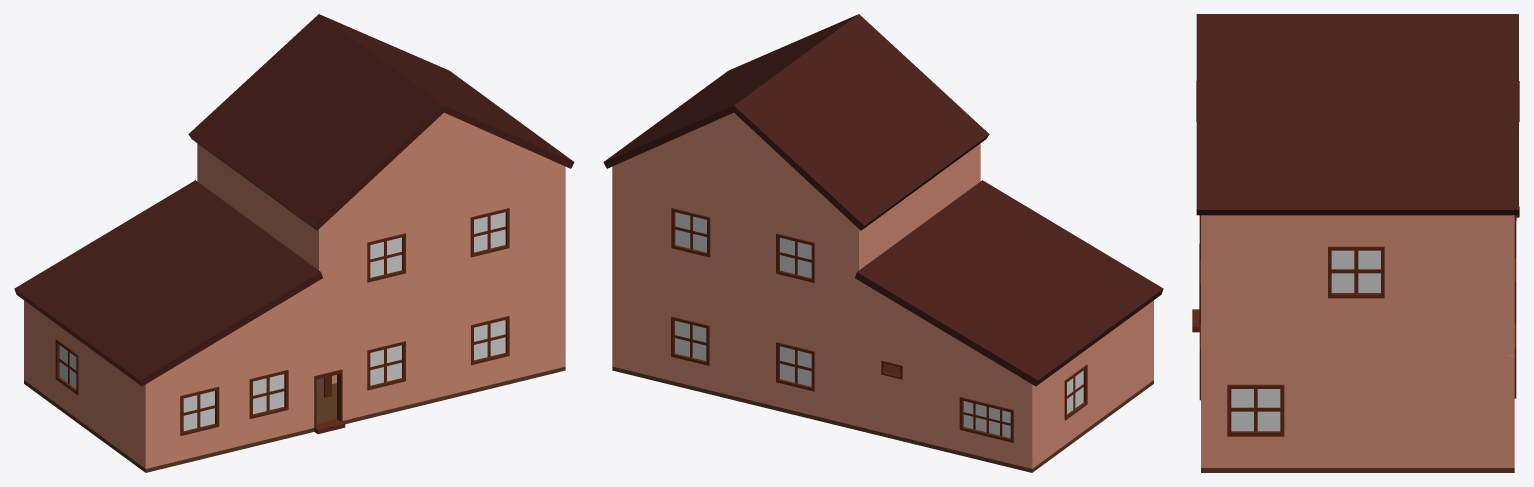
The model's file is TheLodge.fbx_Scene (1).fbx.
The picture shows the model from 3 angles, left to right: view 1: azimuth 30°, elevation 25°; view 2: azimuth 150°, elevation 25°; view 3: azimuth 270°, elevation 25°; orthographic projection. The views are drawn at different scales.
Visible parts, largest first — view 1: Front_Wall_2.002, Front_Wall.002, Front_Wall_2.010, Front_Wall_2, Front_Wall, Front_Wall_2.001, Side_Wall.001, Front_Wall.001, Bathroom_Kitchen_Wall.002, Floor, Front_Wall_2.008, Front_Wall_2.006 (+6 smaller); view 2: Front_Wall_2.002, Front_Wall.002, Back_Wall_2.001, Back_Wall, Back_Wall_2, Front_Wall_2.001, Side_Wall.001, Front_Wall.001, Bathroom_Kitchen_Wall.002, Floor, Back_Wall.001, Front_Wall_2.015 (+4 smaller); view 3: Front_Wall_2.002, Side_Wall.002, Side_Wall, Front_Wall_2.012, Cube.009, Floor, Back_Wall_2.001, Front_Wall_2.010, Front_Wall_2, Back_Wall_2.
Boxes of the visible parts, x1,y1,x2,y2 form: Front_Wall_2.002: (188, 14, 574, 230); Front_Wall.002: (14, 180, 322, 386); Front_Wall_2.010: (316, 171, 565, 339); Front_Wall_2: (356, 279, 565, 417); Front_Wall: (143, 330, 356, 468); Front_Wall_2.001: (318, 112, 565, 230); Side_Wall.001: (26, 302, 143, 466); Front_Wall.001: (154, 281, 318, 379); Bathroom_Kitchen_Wall.002: (199, 145, 316, 268); Floor: (24, 366, 565, 472); Front_Wall_2.008: (470, 208, 509, 257); Front_Wall_2.006: (180, 387, 219, 435); Front_Wall_2.002: (603, 14, 989, 230); Front_Wall.002: (855, 180, 1163, 386); Back_Wall_2.001: (612, 171, 861, 339); Back_Wall: (821, 330, 1034, 468); Back_Wall_2: (612, 279, 821, 417); Front_Wall_2.001: (612, 112, 859, 230); Side_Wall.001: (1034, 302, 1151, 466); Front_Wall.001: (859, 281, 1023, 379); Bathroom_Kitchen_Wall.002: (861, 145, 978, 268); Floor: (612, 366, 1153, 472); Back_Wall.001: (959, 397, 1013, 442); Front_Wall_2.015: (671, 208, 710, 257); Front_Wall_2.002: (1196, 14, 1518, 215); Side_Wall.002: (1207, 216, 1508, 355); Side_Wall: (1207, 355, 1508, 467); Front_Wall_2.012: (1227, 384, 1284, 436); Cube.009: (1328, 246, 1384, 298); Floor: (1201, 468, 1514, 472); Back_Wall_2.001: (1508, 216, 1514, 355); Front_Wall_2.010: (1201, 216, 1207, 355); Front_Wall_2: (1201, 355, 1207, 467); Back_Wall_2: (1508, 355, 1514, 467).
Size of the model in its own units: 20.85 by 13.57 by 10.55.
